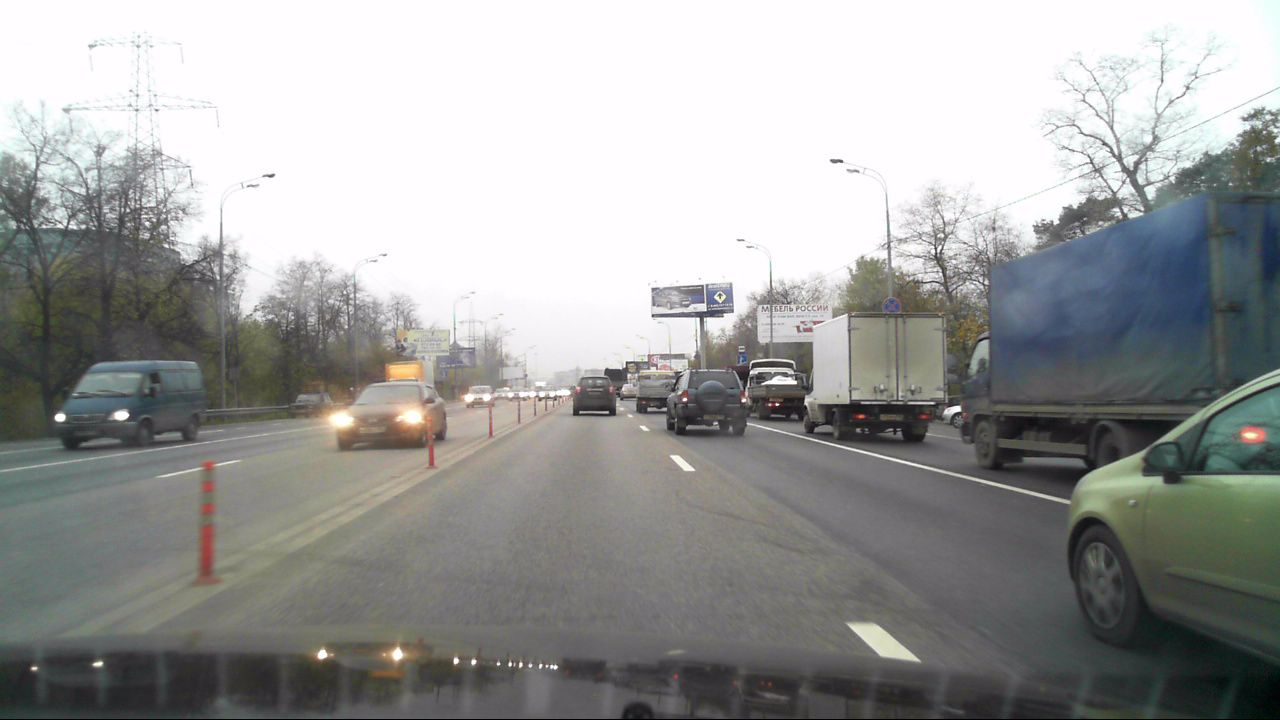No Parking: (880, 296, 901, 317)
